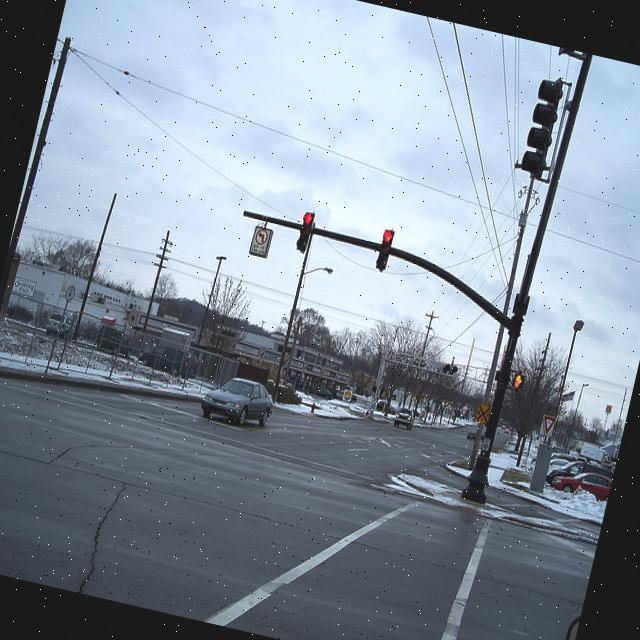fire_hydrant: (310, 400, 316, 412)
